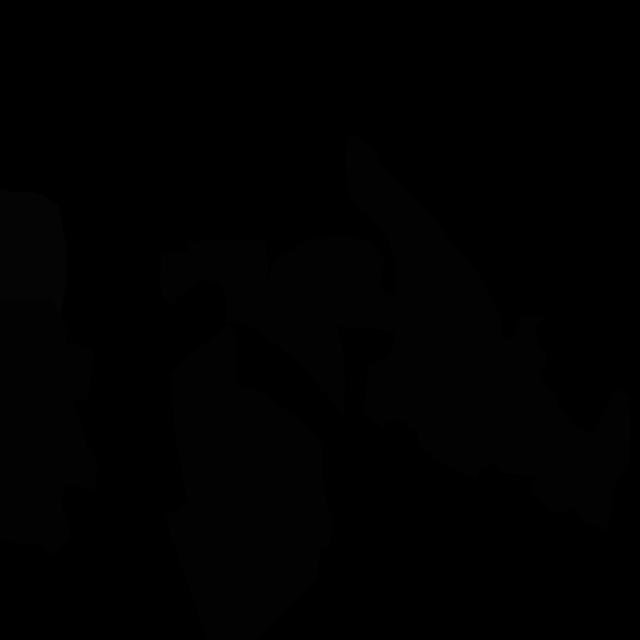cardboard: (345, 132, 561, 480), (164, 324, 334, 640), (233, 236, 396, 415), (0, 298, 98, 556), (530, 388, 631, 531), (160, 239, 269, 325)
soft_plastic: (0, 189, 66, 316)
